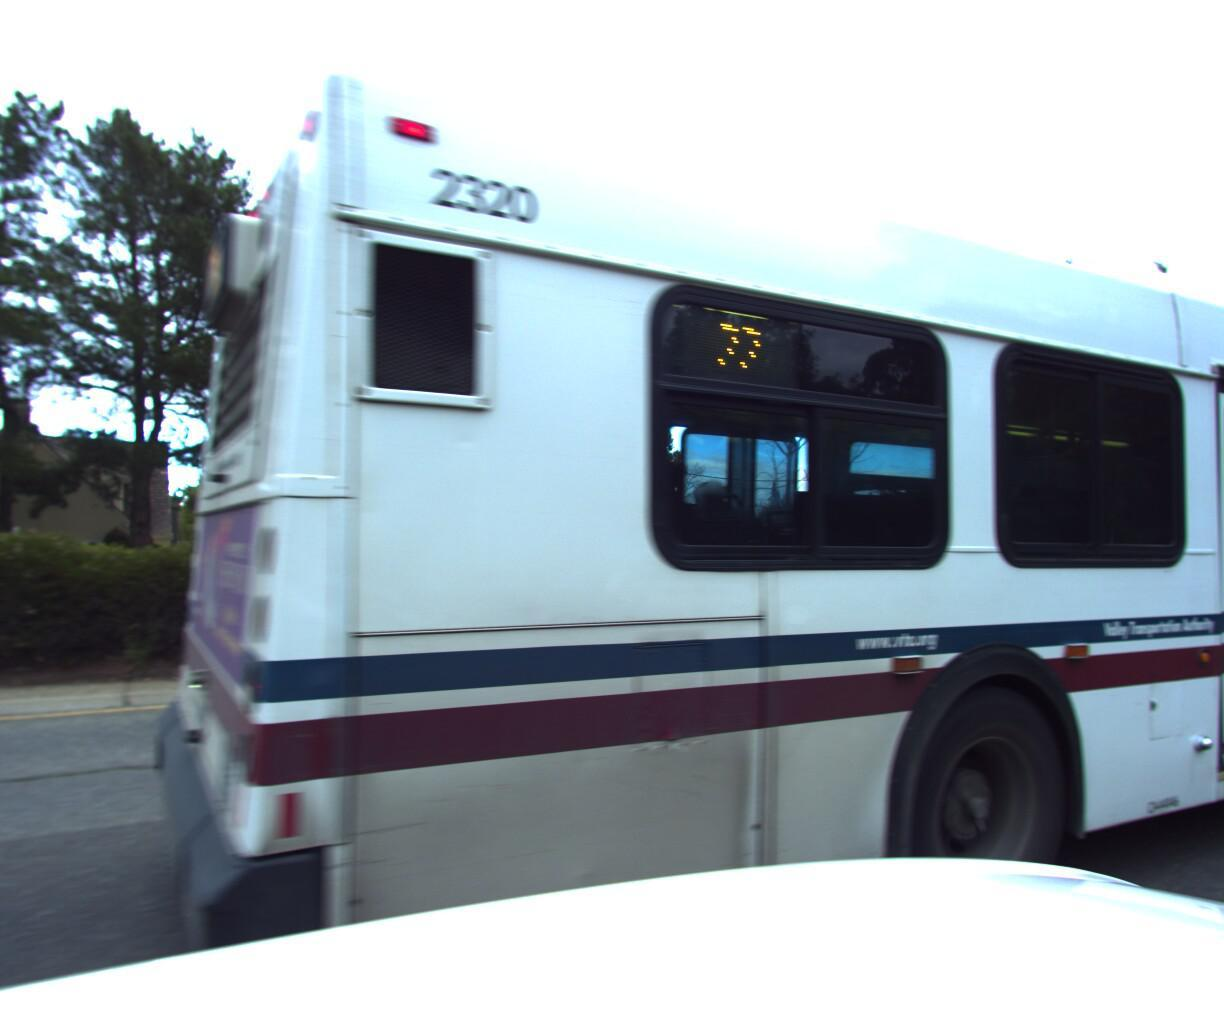bus: (74, 0, 1224, 1024)
